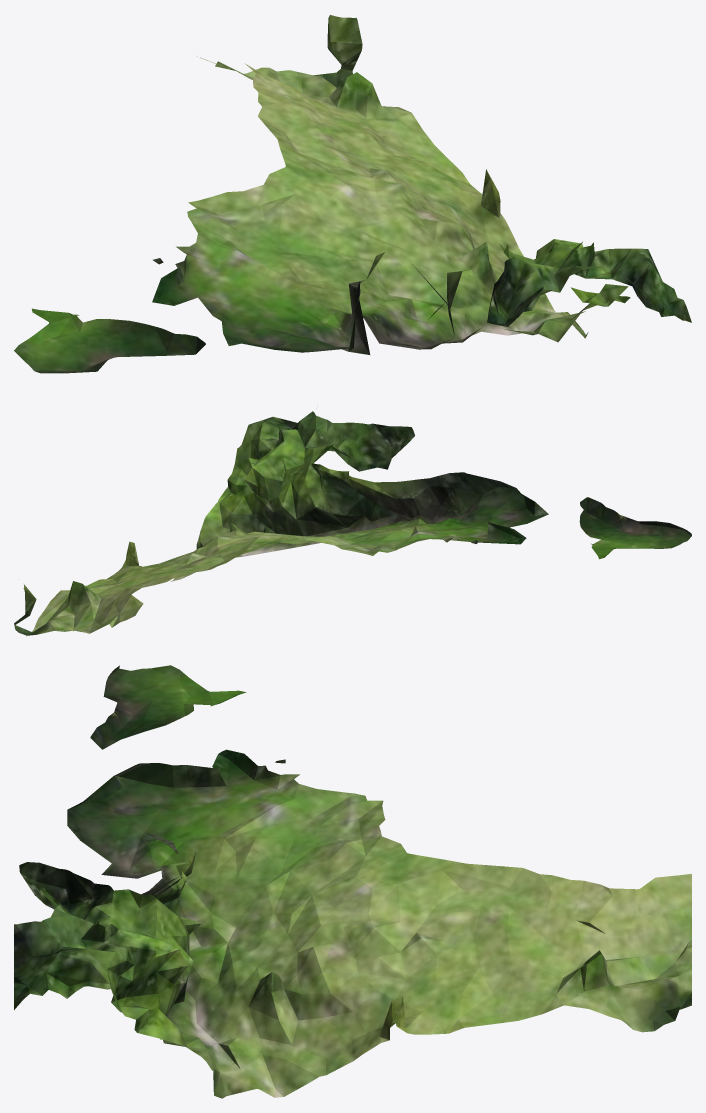
3 views of the same model, one above another, from view 1: azimuth 30°, elevation 25°; view 2: azimuth 150°, elevation 25°; view 3: azimuth 270°, elevation 25° (orthographic). The views are drawn at different scales.
Size of the model in its own units: 26.11 by 6.24 by 26.11.
2 materials, 2 textured.
